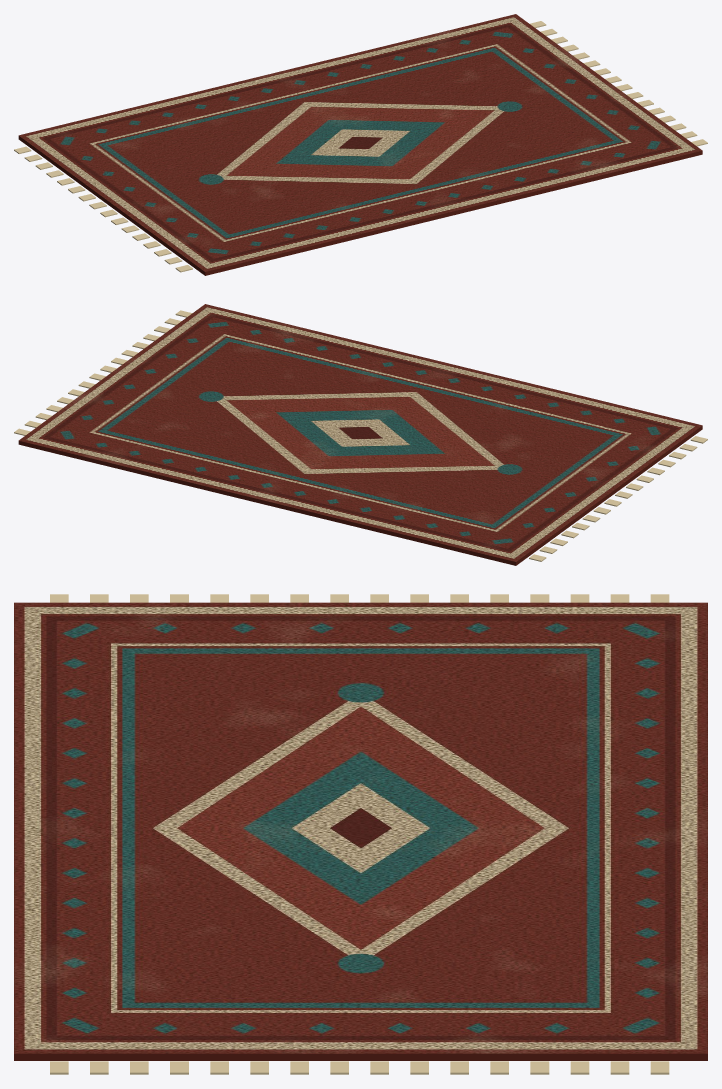
File: rug.glb
3 renders of one model, top to bottom at view 1: azimuth 30°, elevation 25°; view 2: azimuth 150°, elevation 25°; view 3: azimuth 270°, elevation 25°, orthographic. The views are drawn at different scales.
Visible parts, largest first — view 1: Rug_rug, Rug_fringe; view 2: Rug_rug, Rug_fringe; view 3: Rug_rug, Rug_fringe.
Boxes of the visible parts, x1,y1,x2,y2 form: Rug_rug: [18, 14, 702, 275]; Rug_fringe: [14, 21, 707, 272]; Rug_rug: [18, 304, 702, 565]; Rug_fringe: [14, 310, 707, 561]; Rug_rug: [14, 602, 707, 1060]; Rug_fringe: [50, 594, 669, 1074].
Bounding box in the file's own units: 2.12 × 0.015 × 1.3.
2 materials, 1 textured.
